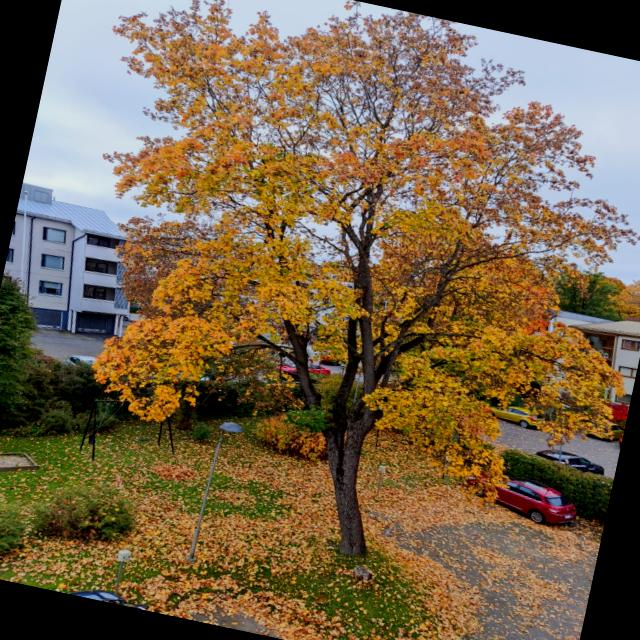Tree-detection: (2, 0, 640, 621)
